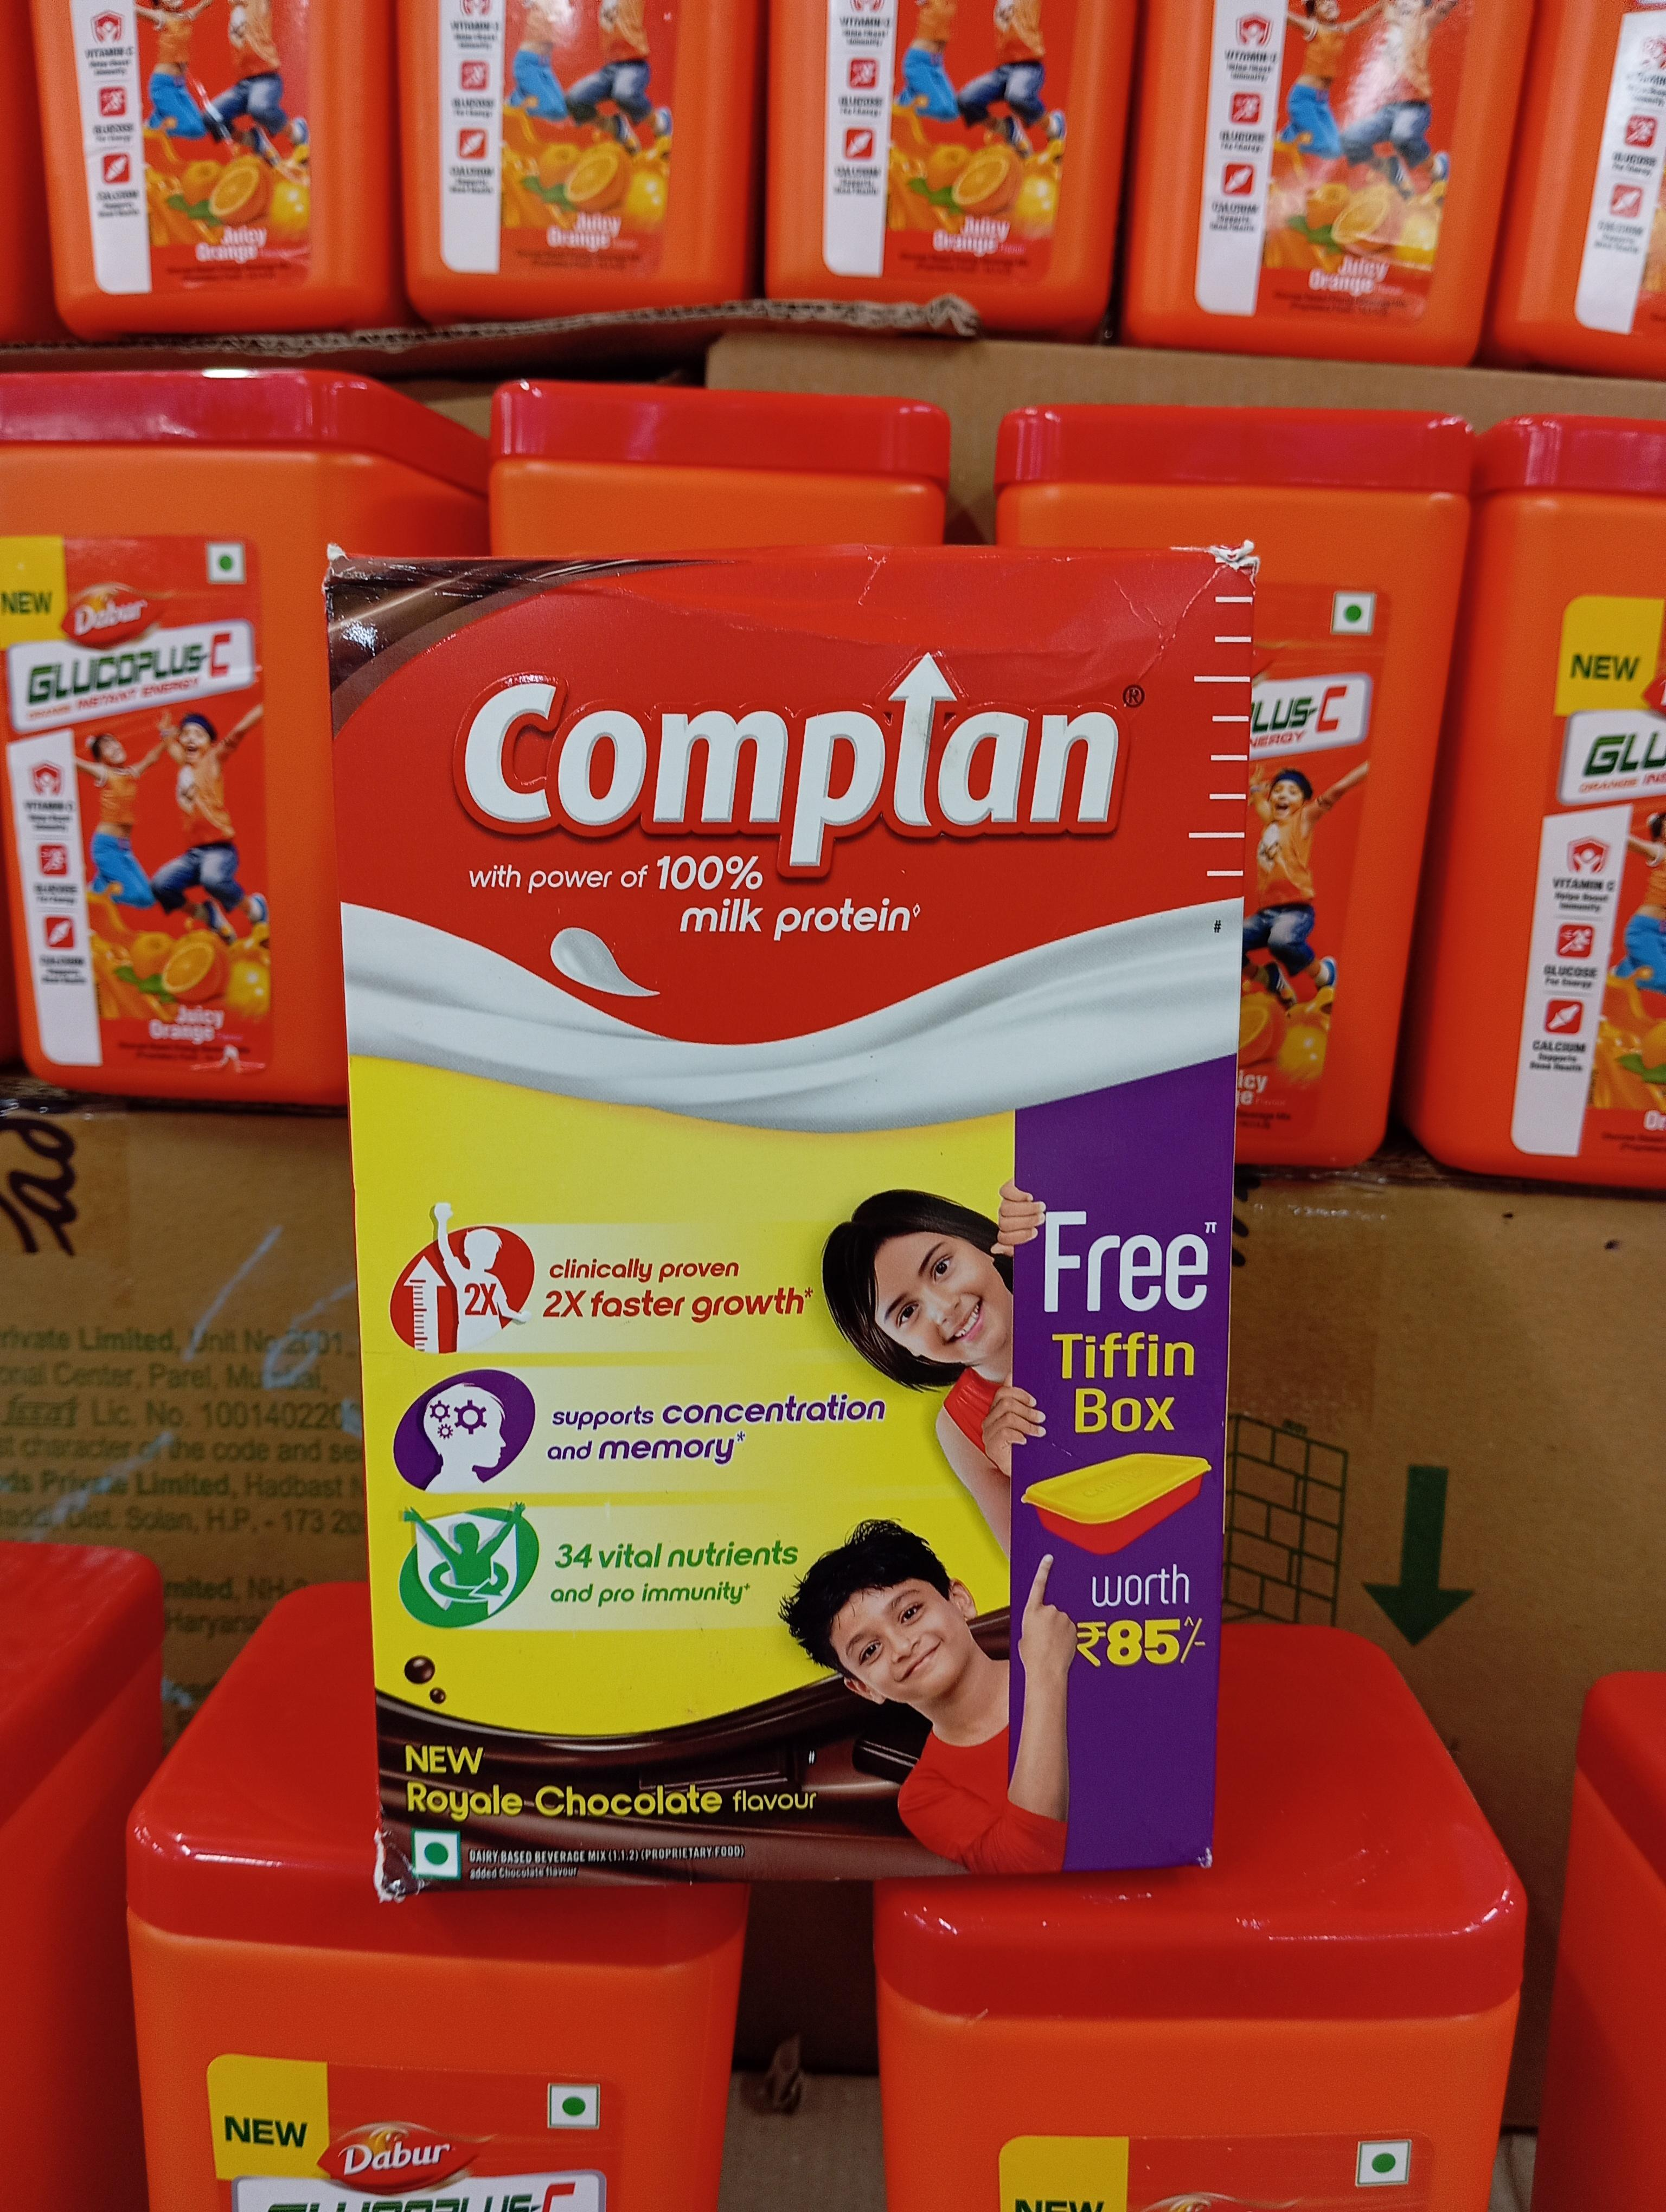COMPLAN_CHOCOLATE_500_GMS_PACK: (341, 570, 1218, 1855)
